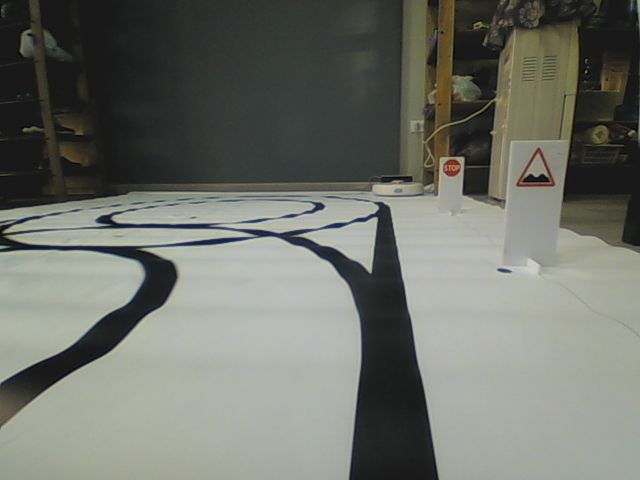Stop: (440, 158, 461, 178)
